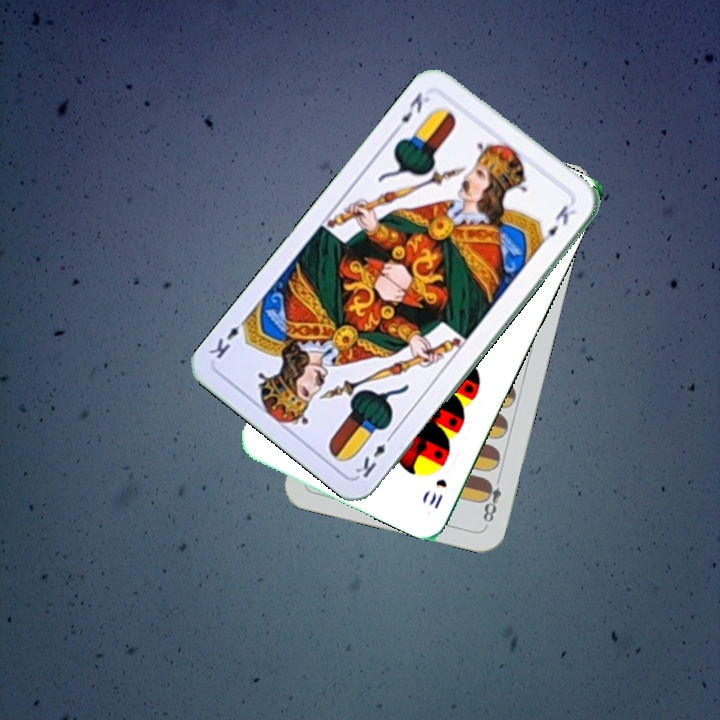E8: (478, 470, 504, 525)
EK: (389, 85, 436, 136), (351, 429, 396, 481)
S10: (424, 474, 450, 511)
